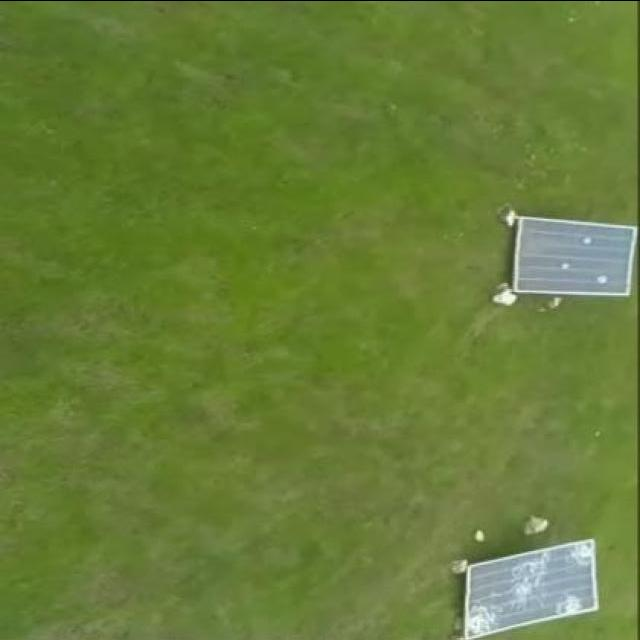cracked: (462, 538, 604, 626)
soiled: (513, 212, 637, 308)
